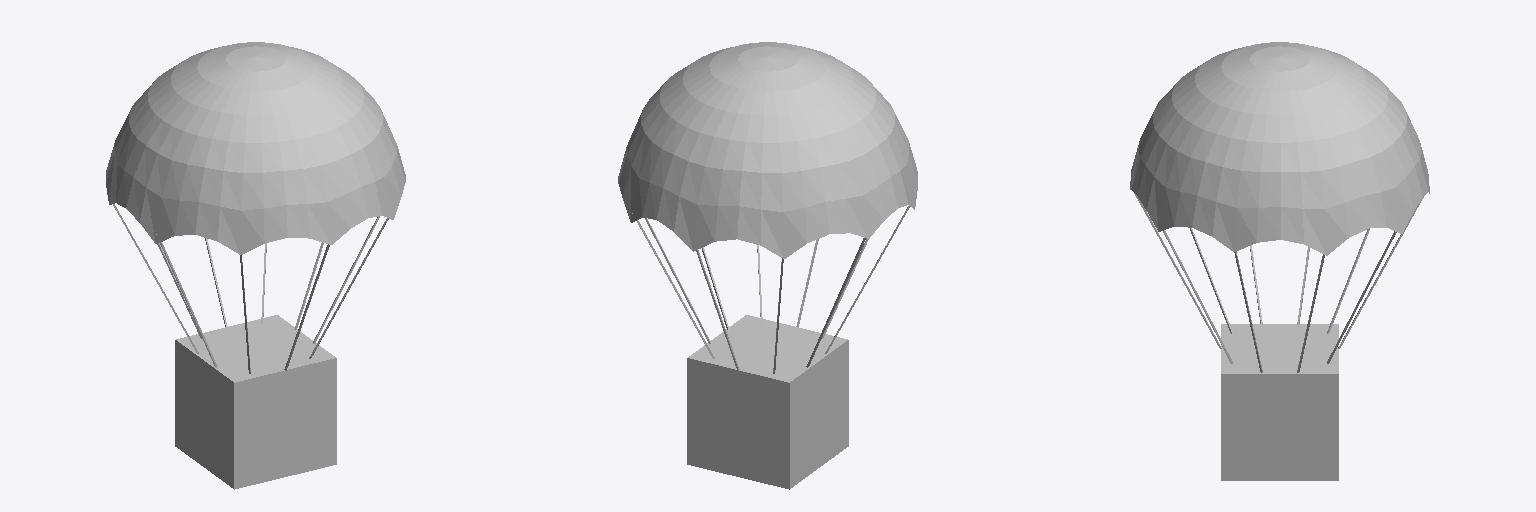
Rendered from Package.obj.
3 renders of one model, left to right at view 1: azimuth 30°, elevation 25°; view 2: azimuth 150°, elevation 25°; view 3: azimuth 270°, elevation 25°, orthographic.
Visible parts, largest first — view 1: Sphere; view 2: Sphere; view 3: Sphere.
Part boxes in pixels (x1,y1,x2,y2): Sphere: (106, 42, 405, 489); Sphere: (618, 42, 917, 489); Sphere: (1130, 42, 1429, 480).
Bounding box in the file's own units: 5.1 × 7.47 × 5.1.